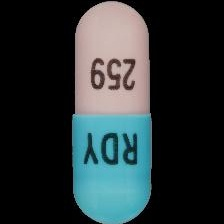64725-0259: (0, 0, 224, 224)
